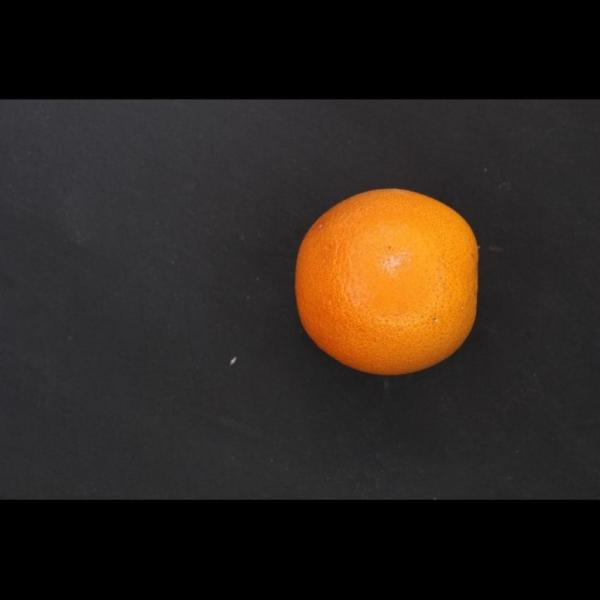Moho verde: (294, 183, 494, 384)
